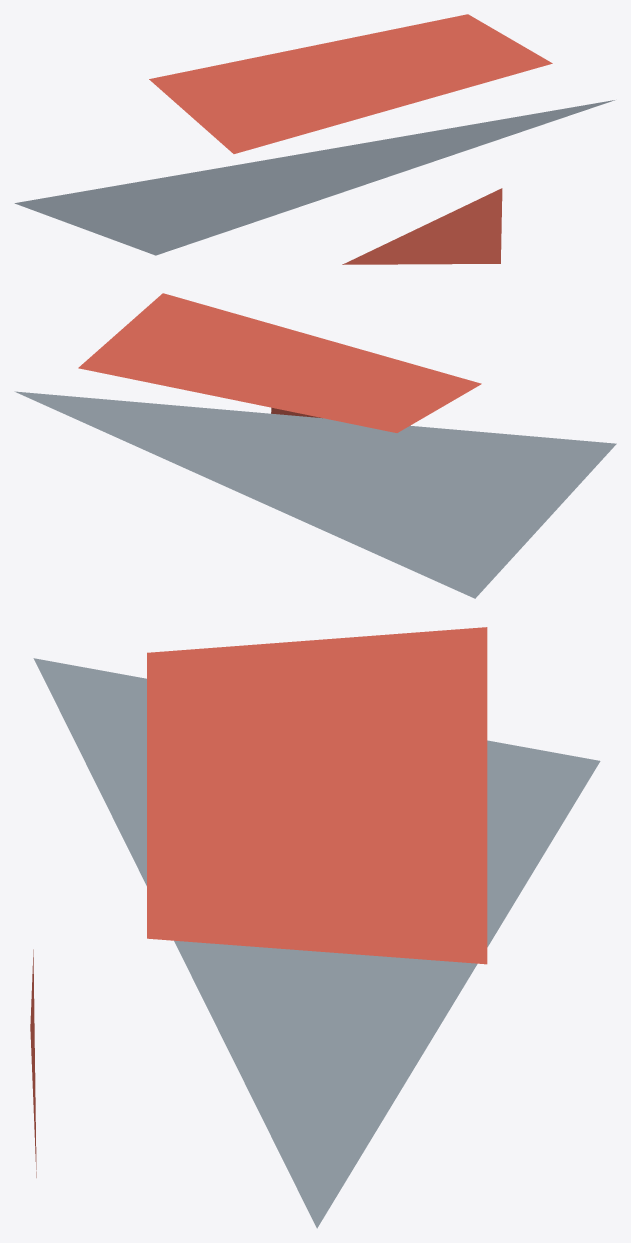
Rendered from SU_GromadaAirship_LOD2.glb.
3 views of the same model, one above another, from view 1: azimuth 30°, elevation 25°; view 2: azimuth 150°, elevation 25°; view 3: azimuth 270°, elevation 25° (orthographic). The views are drawn at different scales.
Visible parts, largest first — view 1: EntranceGate; view 2: EntranceGate; view 3: EntranceGate.
Boxes of the visible parts, x1,y1,x2,y2 form: EntranceGate: (14, 14, 614, 264); EntranceGate: (14, 293, 616, 598); EntranceGate: (30, 627, 600, 1228).
Bounding box in the file's own units: 1300 × 375 × 603.
